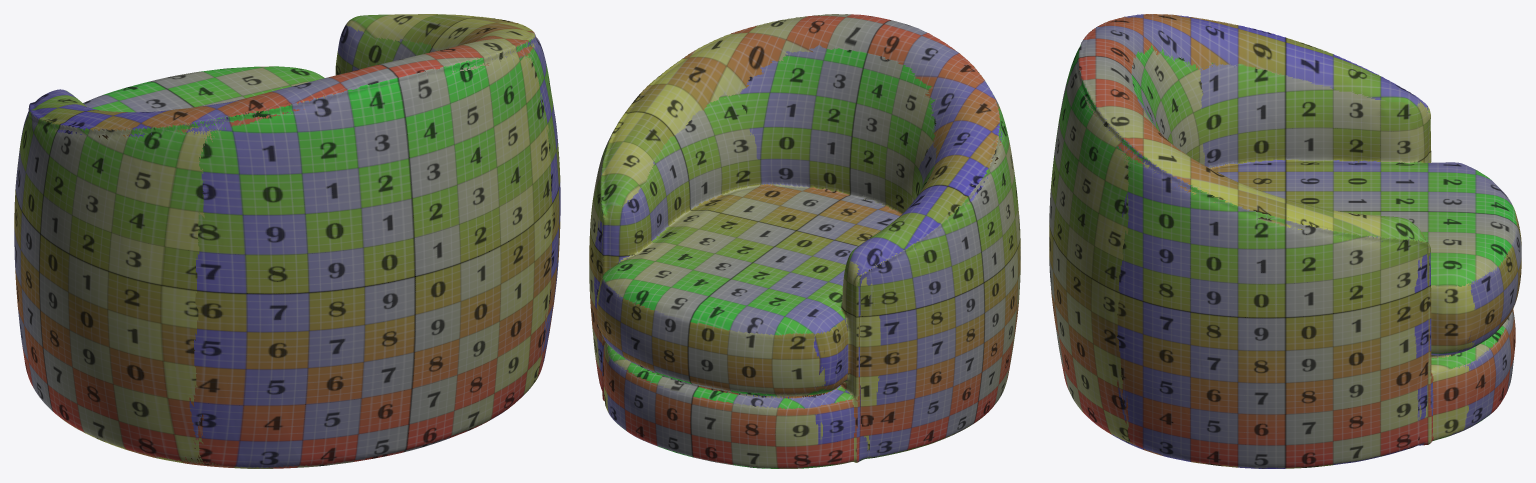
The model's file is SwivelChair.glb.
3 views of the same model, side by side, from view 1: azimuth 30°, elevation 25°; view 2: azimuth 150°, elevation 25°; view 3: azimuth 270°, elevation 25° (orthographic). The views are drawn at different scales.
Visible parts, largest first — view 1: SwivelChair_; view 2: SwivelChair_; view 3: SwivelChair_.
Part boxes in pixels (<box>): SwivelChair_: <box>14,14,560,468</box>; SwivelChair_: <box>589,14,1020,468</box>; SwivelChair_: <box>1049,14,1521,468</box>.
Size of the model in its own units: 0.9386 by 0.7338 by 0.9383.
Materials: 2 (1 with a texture image).
